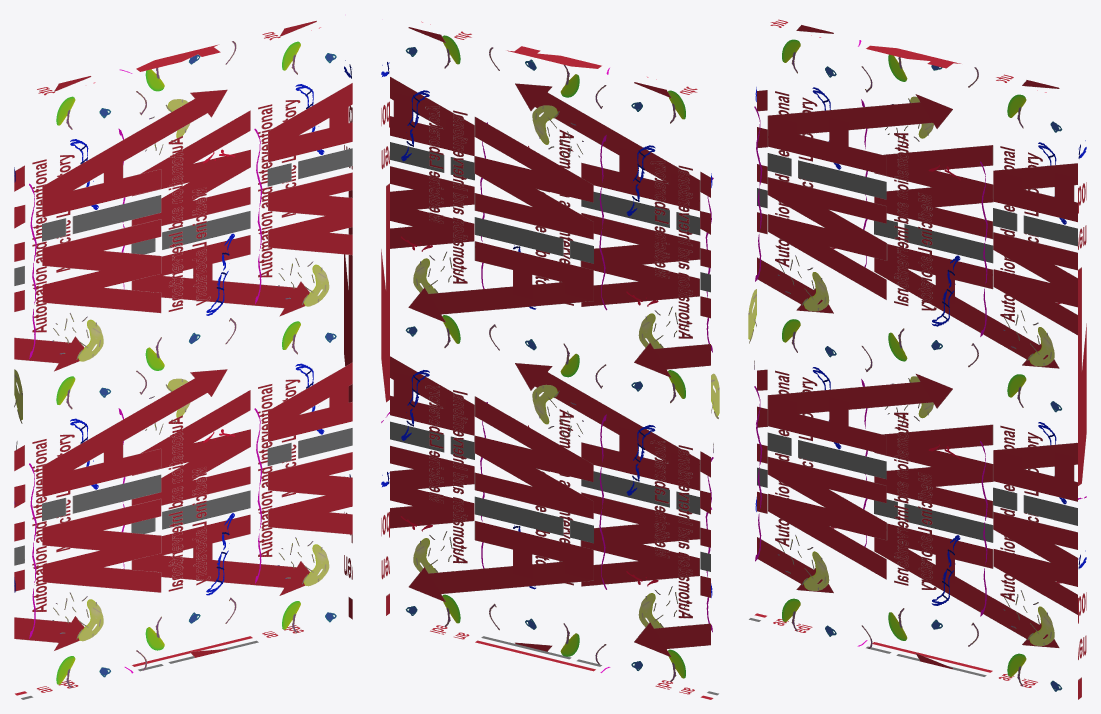
Rendered from cloth.OBJ.
The picture shows the model from 3 angles, left to right: view 1: azimuth 30°, elevation 25°; view 2: azimuth 150°, elevation 25°; view 3: azimuth 330°, elevation 25°; orthographic projection.
Visible parts, largest first — view 1: cloth_Plane; view 2: cloth_Plane; view 3: cloth_Plane.
Part boxes in pixels (x1,y1,x2,y2): cloth_Plane: [14, 20, 352, 699]; cloth_Plane: [381, 21, 719, 699]; cloth_Plane: [748, 19, 1086, 699].
Size of the model in its own units: 0.4824 by 0.8382 by 0.0216.
Materials: 1 (1 with a texture image).
